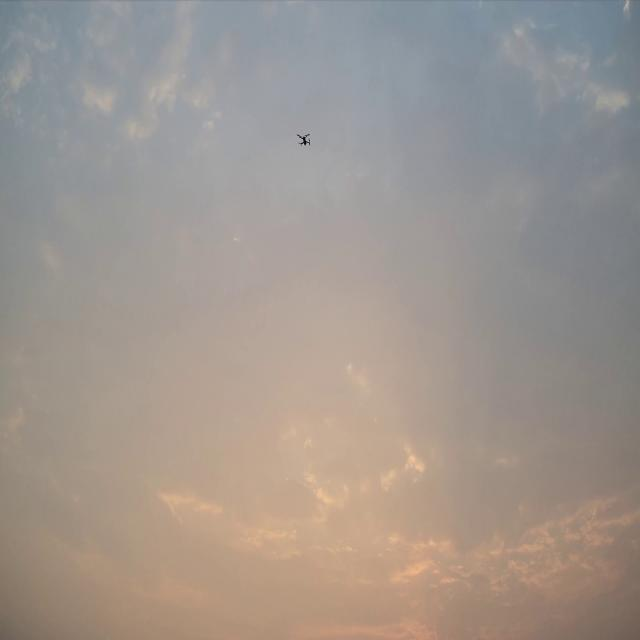drone: (297, 134, 310, 146)
